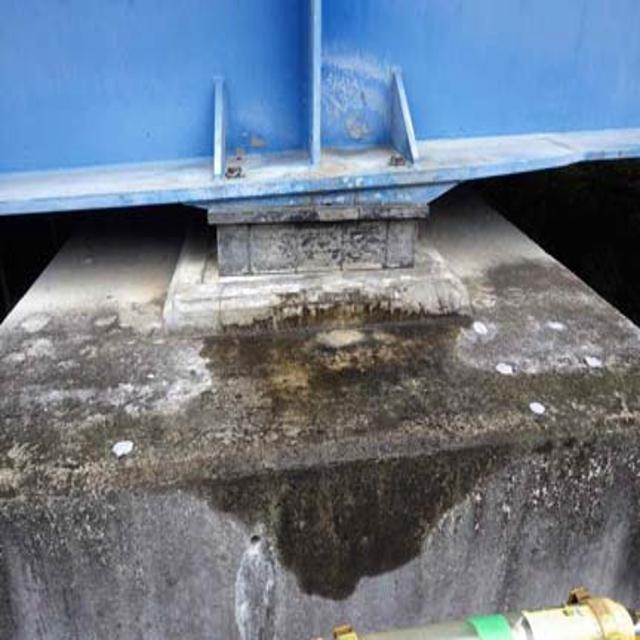leakage: (164, 291, 516, 590)
